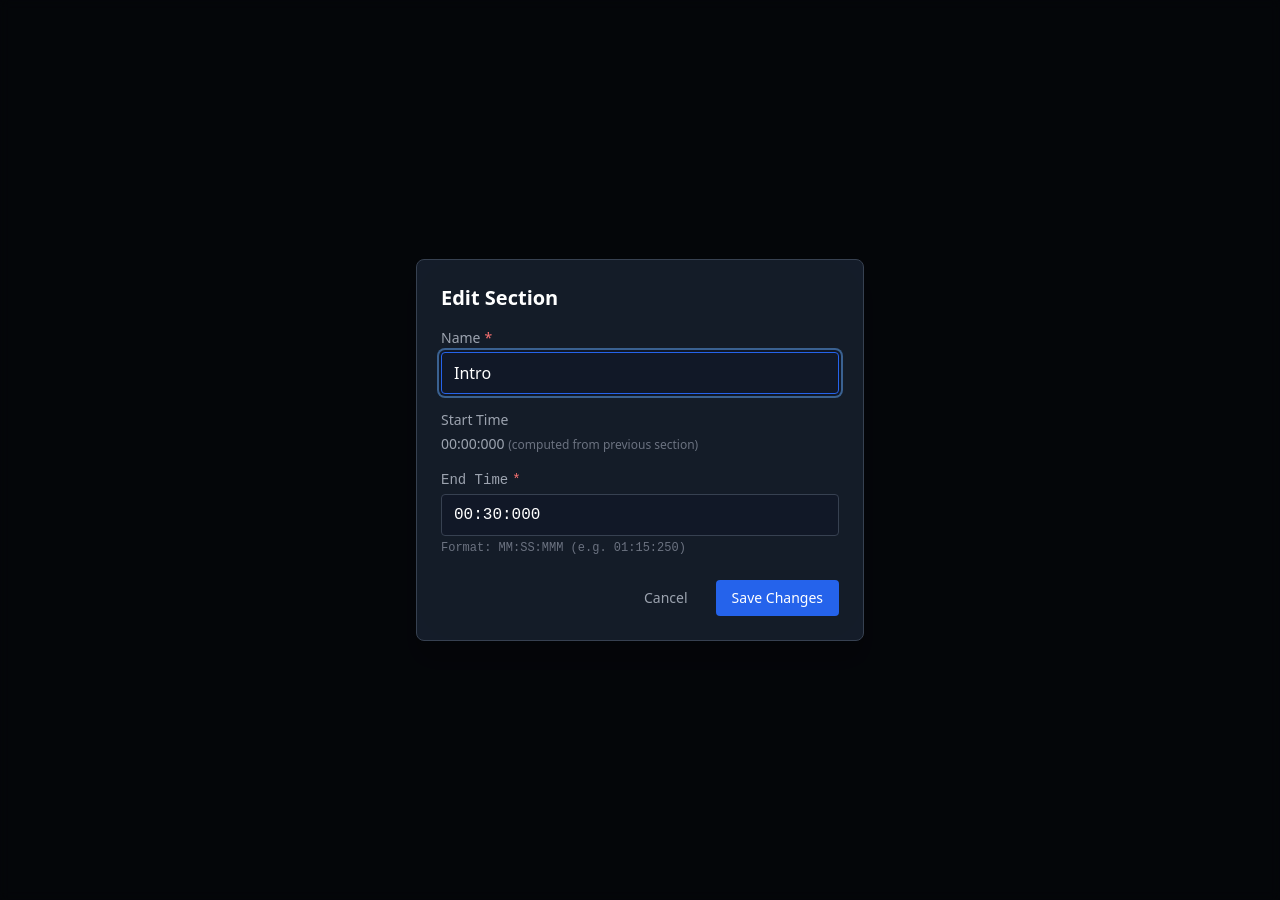
EditSectionModal › shows error when encryption key is missing
Click the button "Save Changes" at (777, 598), box [716, 580, 839, 616]
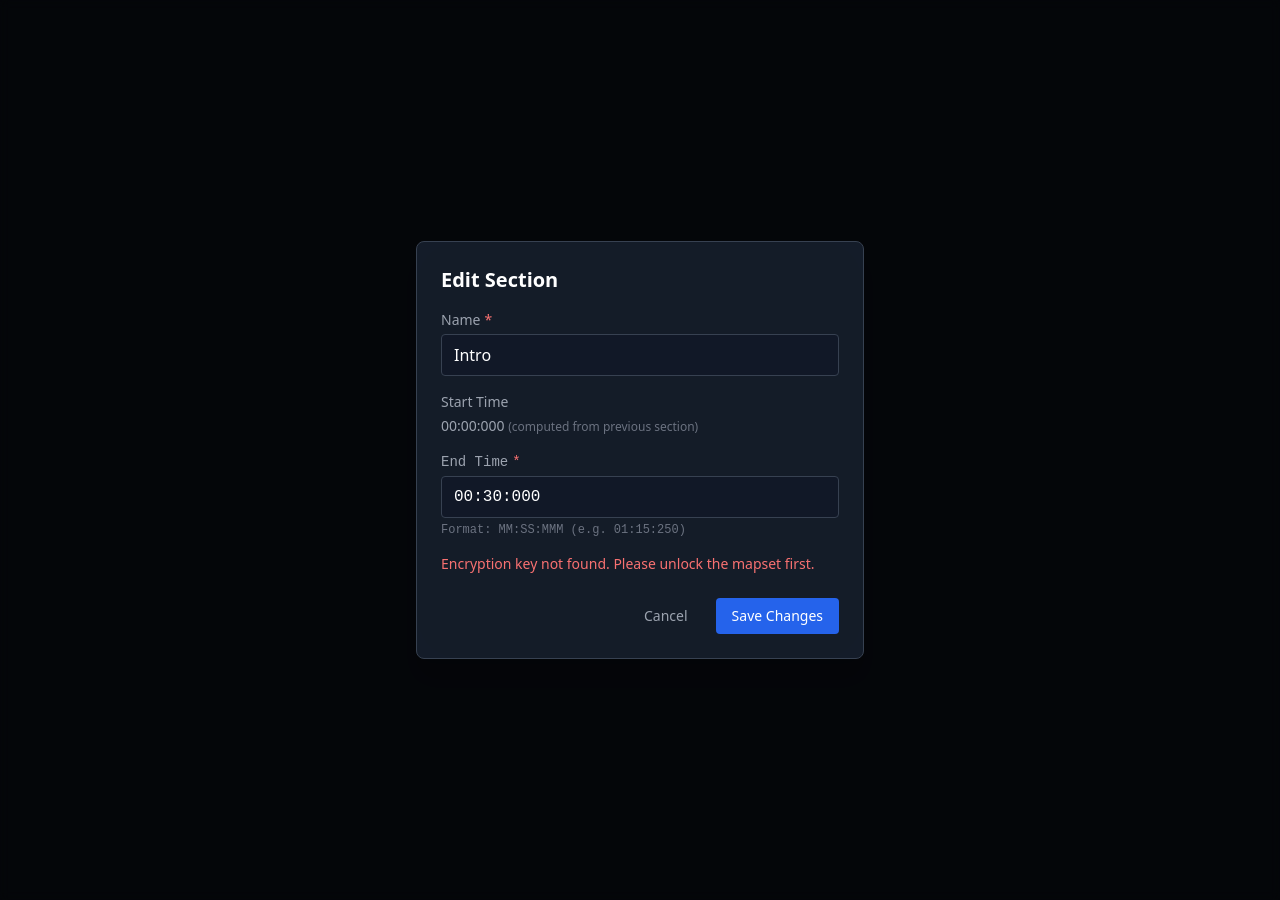
Check: the message shows "key not found", box [441, 554, 814, 573]
